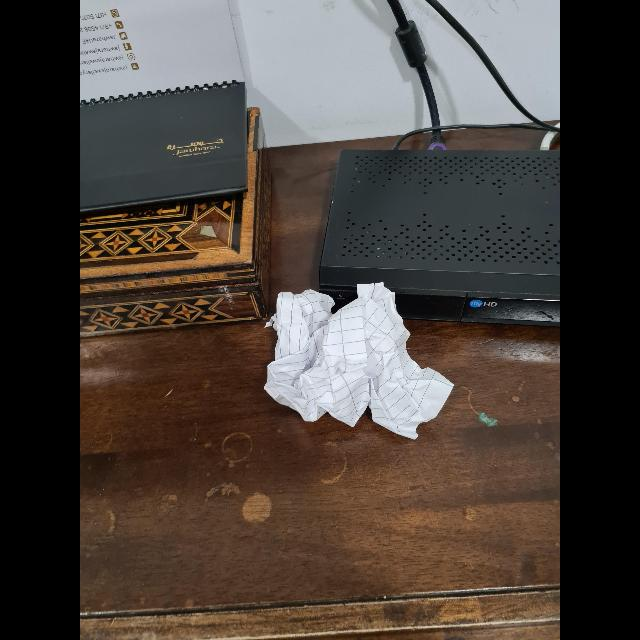scrap_paper: (272, 280, 454, 444)
